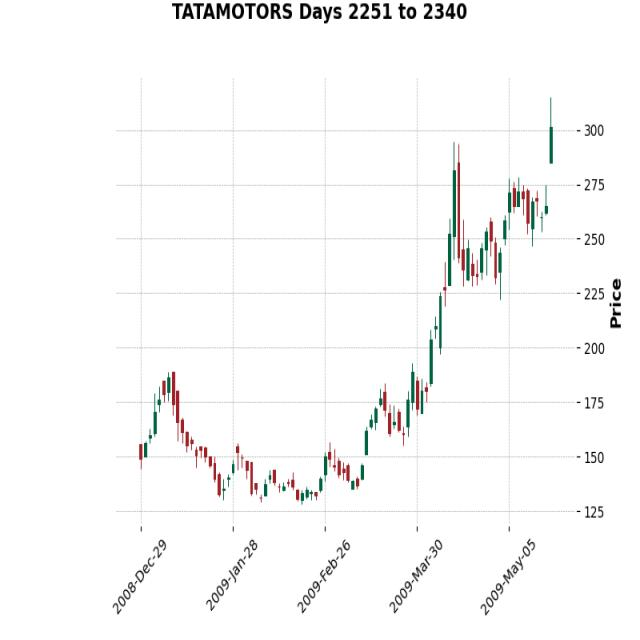Double Top: (334, 350, 469, 512)
